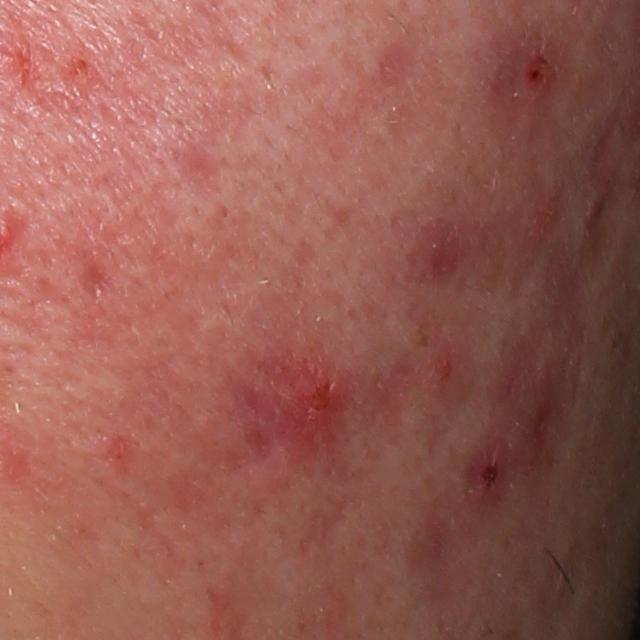atrophic_scar: (170, 140, 229, 203), (294, 504, 348, 564), (76, 257, 123, 309)
papule: (274, 363, 356, 460), (462, 438, 513, 508), (406, 218, 459, 284), (430, 346, 478, 401), (526, 191, 567, 244), (520, 47, 556, 98)
